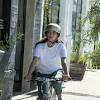helmet: (45, 23, 66, 43)
